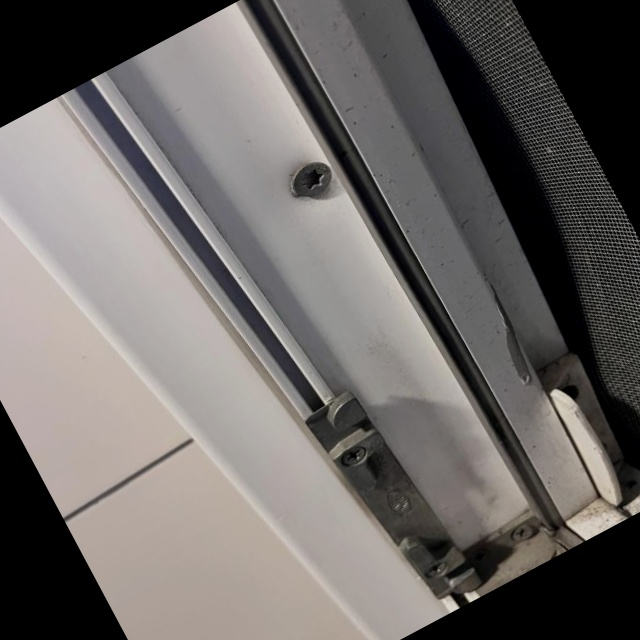phillips: (338, 443, 369, 469), (466, 544, 493, 568), (509, 521, 536, 545), (422, 558, 449, 580)
torx: (285, 155, 338, 204)
